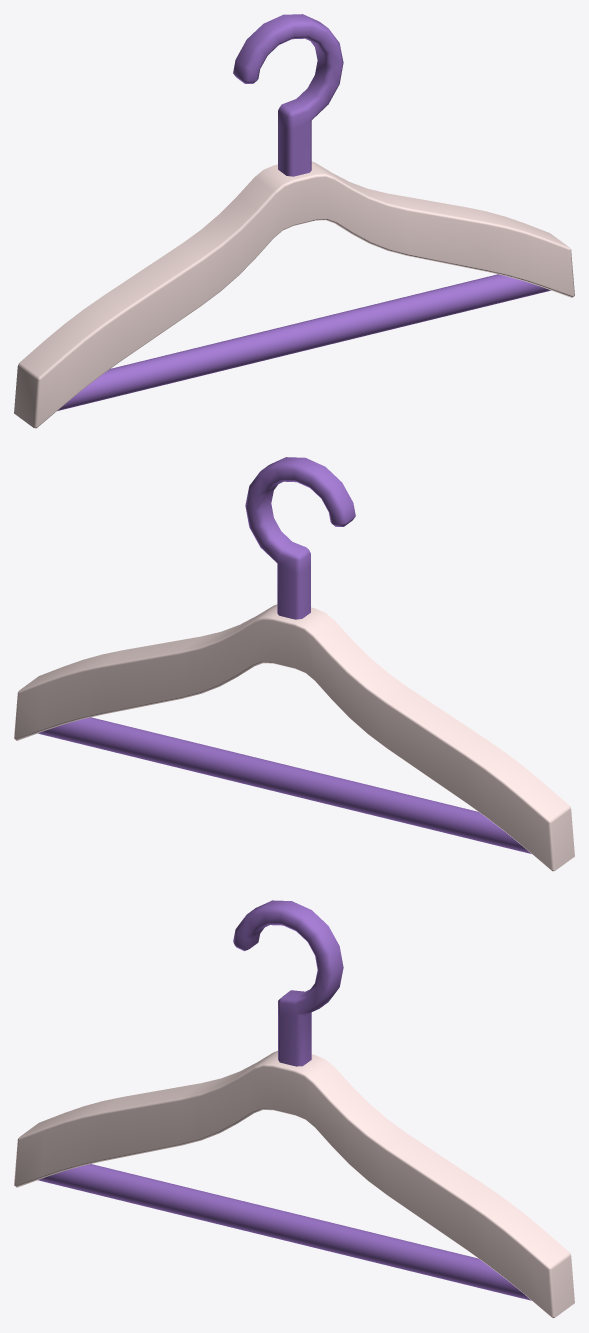
File: Public_13_Clothes_hanger_1.glb
3 views of the same model, one above another, from view 1: azimuth 30°, elevation 25°; view 2: azimuth 150°, elevation 25°; view 3: azimuth 330°, elevation 25° (orthographic).
Visible parts, largest first — view 1: Public_13_Clothes_hanger_1; view 2: Public_13_Clothes_hanger_1; view 3: Public_13_Clothes_hanger_1.
Part boxes in pixels (<box>): Public_13_Clothes_hanger_1: <box>14,14,574,428</box>; Public_13_Clothes_hanger_1: <box>14,457,574,871</box>; Public_13_Clothes_hanger_1: <box>14,900,574,1318</box>.
Size of the model in its own units: 0.5803 by 0.3482 by 0.0411.
Materials: 1 (1 with a texture image).
